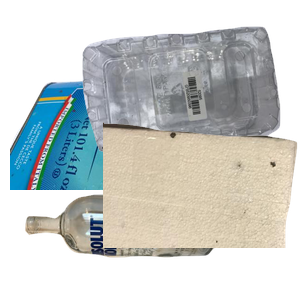glass: (22, 192, 234, 300)
metal: (10, 64, 250, 244)
plastic: (80, 24, 300, 172)
trash: (103, 120, 300, 300)
